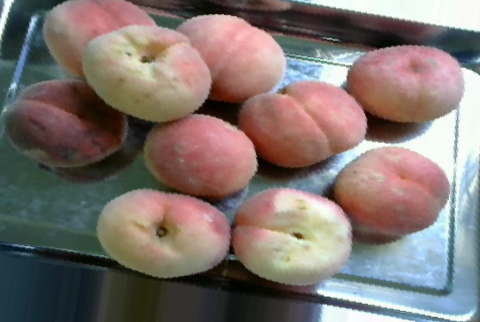Peach: (85, 20, 212, 125), (232, 187, 354, 287), (96, 187, 227, 278), (6, 76, 122, 168), (243, 79, 364, 165), (333, 146, 449, 235), (141, 114, 258, 200), (345, 44, 463, 125), (178, 14, 287, 101)
